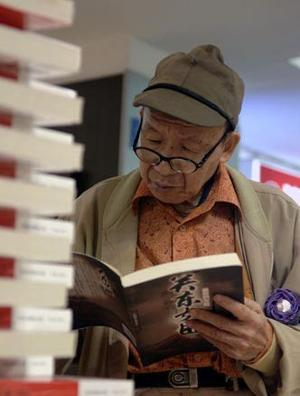person: (55, 45, 300, 396)
